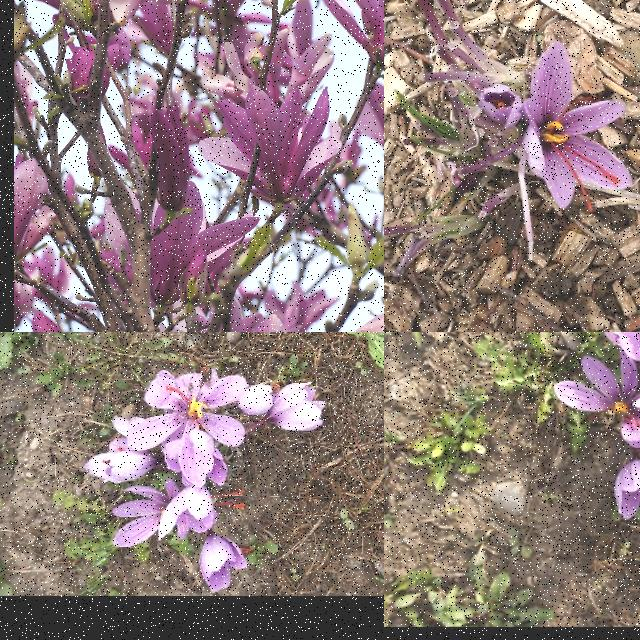flower: (523, 40, 635, 212), (554, 346, 640, 450), (158, 485, 245, 543), (200, 534, 252, 594), (270, 381, 326, 432), (478, 82, 522, 130), (613, 456, 640, 523), (612, 332, 640, 372)
overlap: (83, 368, 279, 548), (555, 332, 640, 475)
